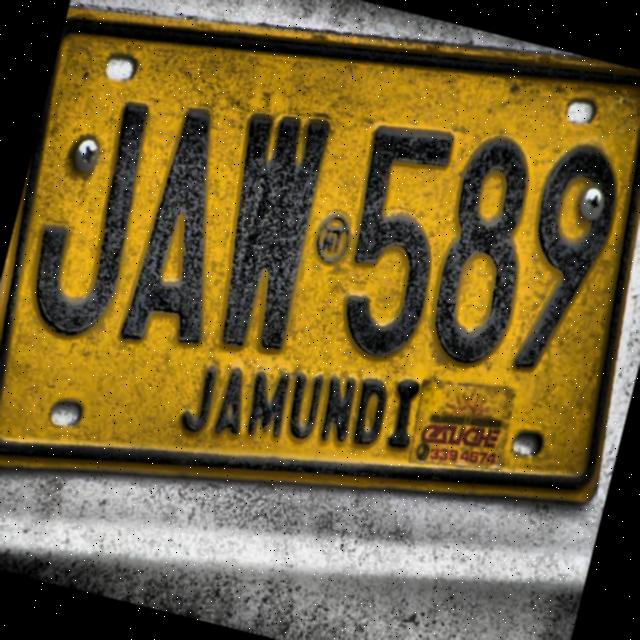plate: (0, 24, 640, 494)
